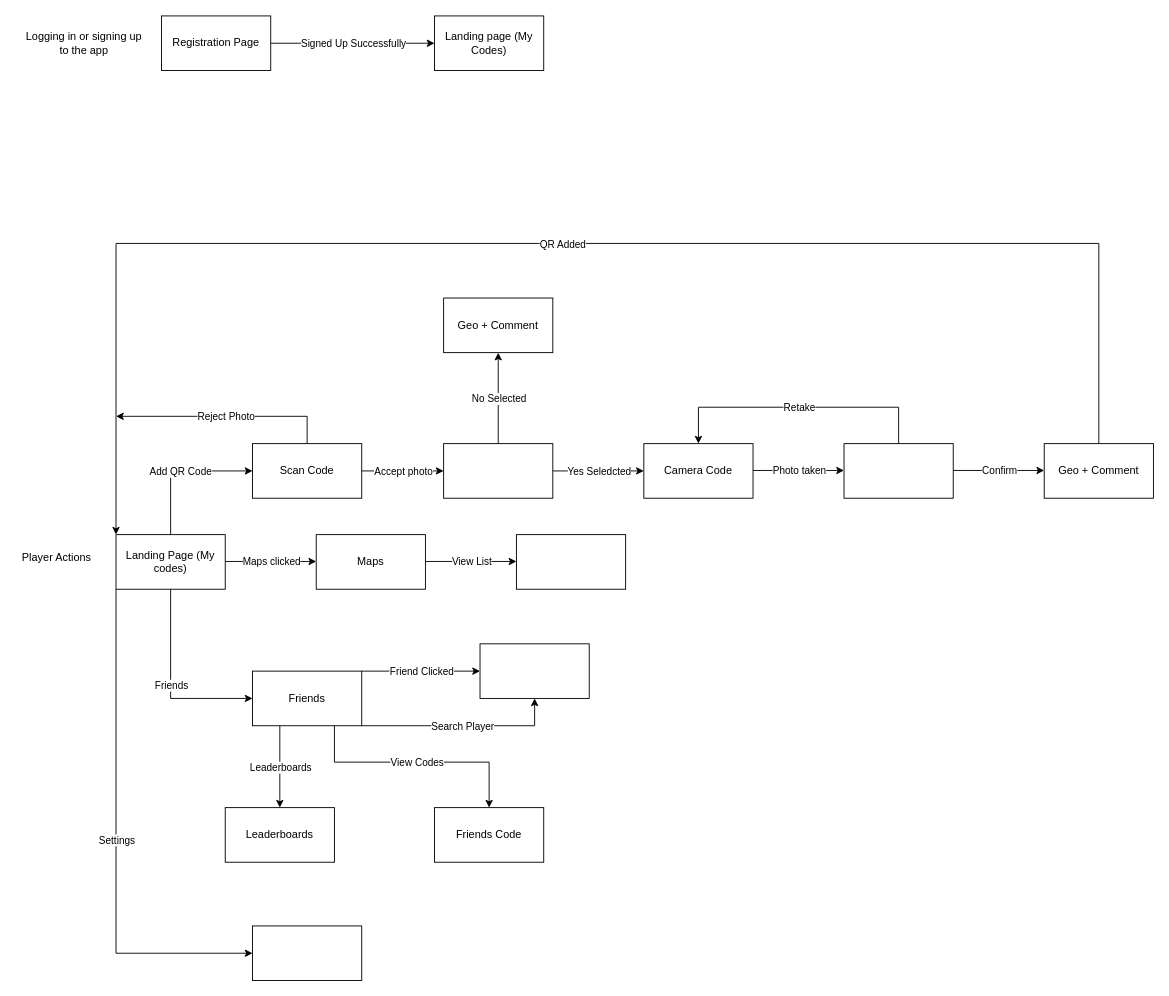
The diagram is 1169 pixels wide and 996 high, and some of its shapes have lost their labels. The shapes that lost their labels are listed below. From the top down, each one's box as (x1, y1, x2, y2) in pixels, then its label:
(443, 443, 553, 498): Yes/No Photo Fragment
(843, 443, 953, 498): Photo & Confirm/Retake Fragment
(516, 534, 626, 589): Nearby Codes List
(479, 643, 589, 698): Friend Information Fragment
(252, 925, 362, 981): User Settings
